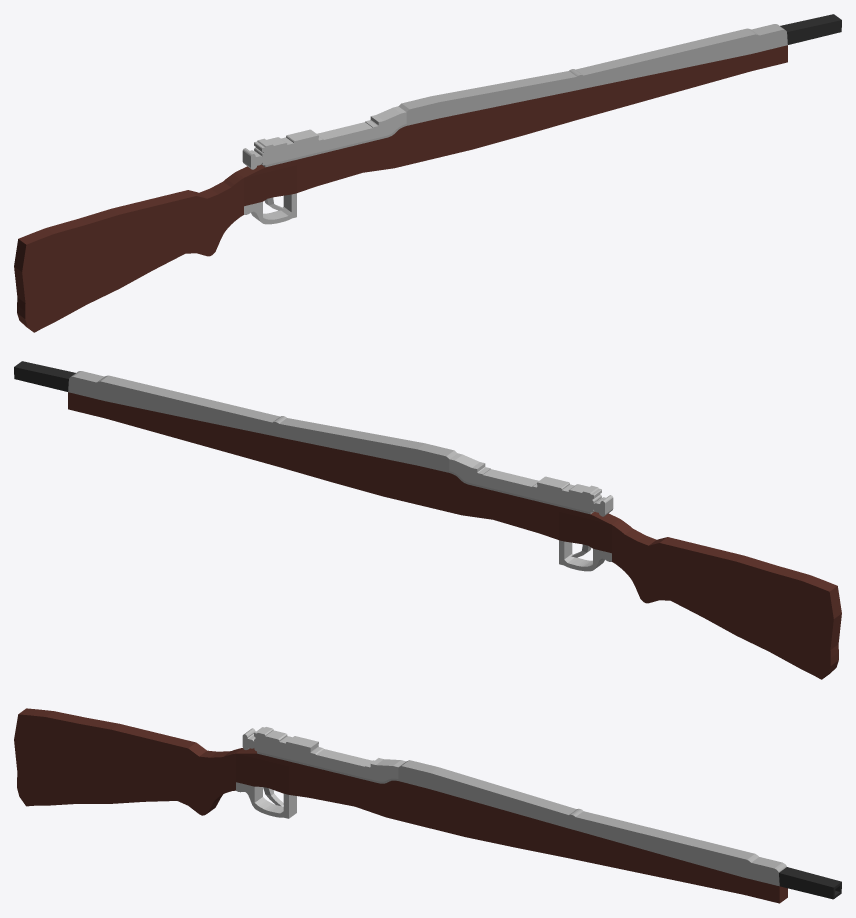
Rendered from RifleNoScope.fbx.
The picture shows the model from 3 angles, top to bottom: view 1: azimuth 30°, elevation 25°; view 2: azimuth 150°, elevation 25°; view 3: azimuth 330°, elevation 25°; orthographic projection.
Visible parts, largest first — view 1: Rifle.001; view 2: Rifle.001; view 3: Rifle.001.
Boxes of the visible parts, x1,y1,x2,y2 form: Rifle.001: (14,14,841,332); Rifle.001: (14,361,841,679); Rifle.001: (14,708,841,903).
Bounding box in the file's own units: 486 × 74.76 × 8.37.
